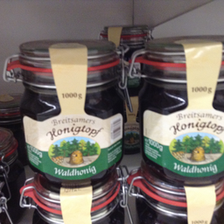honey: (3, 38, 133, 181), (128, 35, 224, 184)
